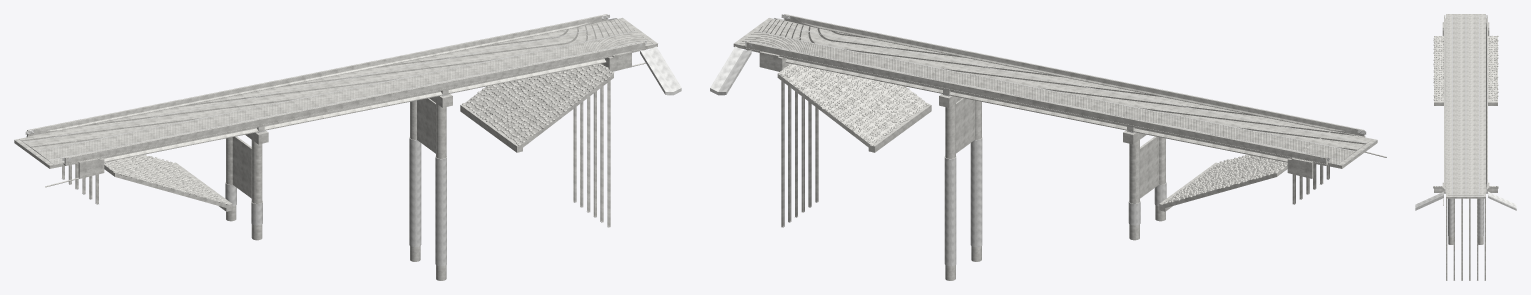
The model's file is model_render.glb.
3 renders of one model, left to right at view 1: azimuth 30°, elevation 25°; view 2: azimuth 150°, elevation 25°; view 3: azimuth 270°, elevation 25°, orthographic. The views are drawn at different scales.
Visible parts, largest first — view 1: deck, riprap_north, rail_L, rail_R, riprap_north_stones, riprap_south_stones, b3_casing_L, approach_south, b3_casing_R, approach_north, riprap_south, b2_wall (+16 smaller); view 2: deck, riprap_north, rail_R, riprap_north_stones, rail_L, riprap_south_stones, b3_casing_L, b3_casing_R, approach_south, approach_north, riprap_south, b2_wall (+15 smaller); view 3: deck, riprap_south, riprap_south_stones, approach_north, approach_south, marking_center, rail_L, rail_R, b3_casing_L, b3_casing_R, riprap_turnout_L, riprap_turnout_R (+11 smaller).
Part boxes in pixels (box(x1,y1,x2,y2)): deck: box(61, 28, 612, 158); riprap_north: box(465, 63, 613, 149); rail_L: box(59, 21, 576, 130); rail_R: box(97, 48, 613, 157); riprap_north_stones: box(462, 64, 614, 145); riprap_south_stones: box(104, 154, 227, 204); b3_casing_L: box(409, 137, 421, 247); approach_south: box(19, 130, 89, 166); b3_casing_R: box(435, 156, 446, 266); approach_north: box(576, 19, 653, 49); riprap_south: box(104, 155, 229, 207); b2_wall: box(232, 136, 251, 198); deck: box(779, 27, 1330, 158); riprap_north: box(777, 64, 926, 149); rail_R: box(815, 21, 1331, 130); riprap_north_stones: box(778, 63, 928, 146); rail_L: box(778, 48, 1294, 157); riprap_south_stones: box(1164, 154, 1287, 203); b3_casing_L: box(944, 156, 956, 266); b3_casing_R: box(970, 138, 982, 247); approach_south: box(1302, 130, 1372, 166); approach_north: box(738, 19, 814, 49); riprap_south: box(1162, 155, 1287, 207); b2_wall: box(1140, 136, 1158, 198); deck: box(1444, 27, 1487, 183); riprap_south: box(1434, 36, 1497, 101); riprap_south_stones: box(1433, 35, 1498, 100); approach_north: box(1446, 183, 1485, 195); approach_south: box(1446, 15, 1485, 27); marking_center: box(1465, 15, 1466, 194); rail_L: box(1486, 24, 1487, 182); rail_R: box(1444, 24, 1445, 182); b3_casing_L: box(1478, 198, 1483, 236); b3_casing_R: box(1448, 198, 1453, 236); riprap_turnout_L: box(1488, 191, 1516, 210); riprap_turnout_R: box(1415, 191, 1443, 210).
Bounding box in the file's own units: 92.05 × 31.08 × 23.16.
Materials: 5 (3 with a texture image).
